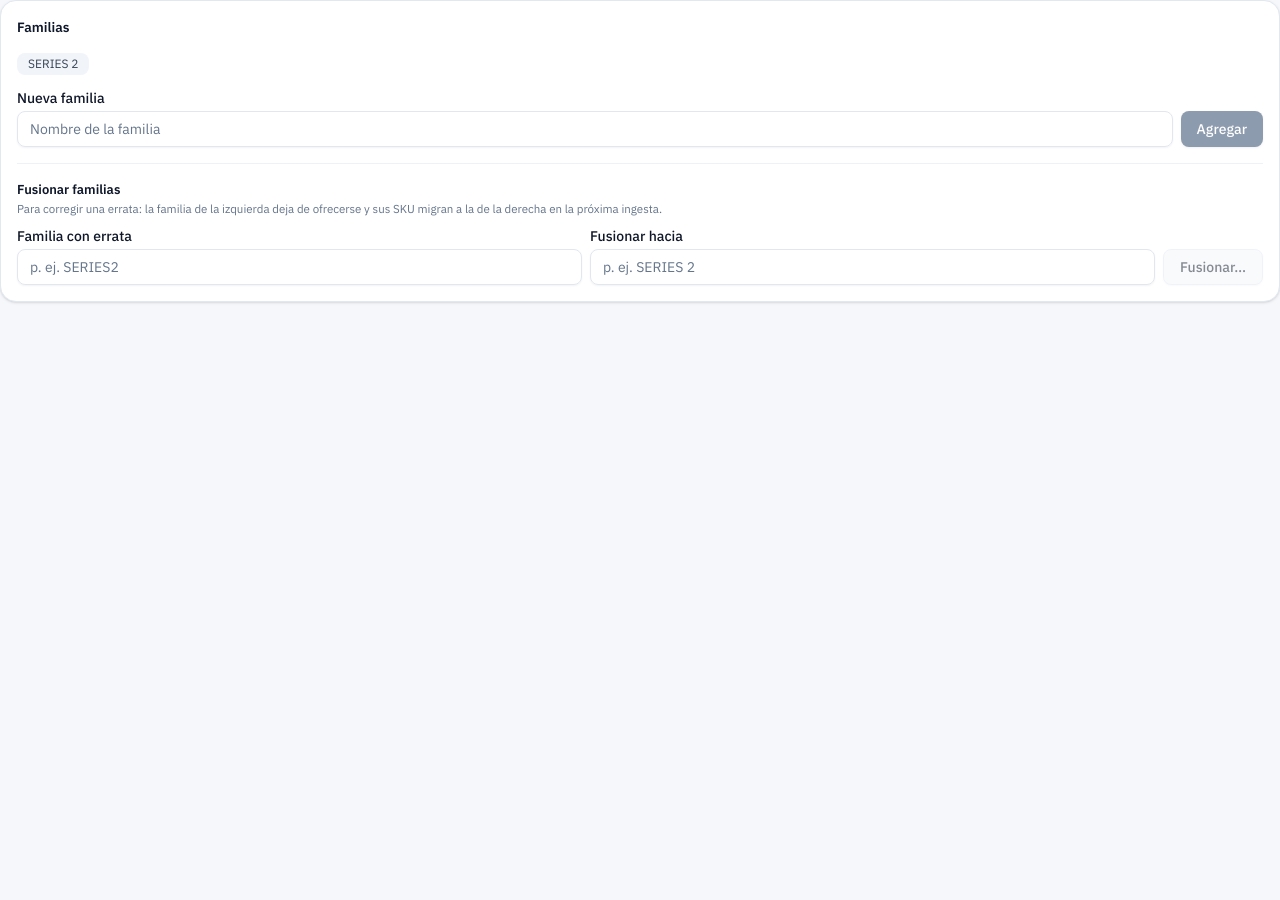
it: ConfigFamilias — Fusionar familias (C, [MVP-2]) › 2+ compuestos: pluraliza 'valores compuestos que contienen'
The image size is (1280, 900).
Expected: the text "SERIES 2" is shown, [17, 53, 90, 75]
Type "CLIP" into the field labelled "Familia con errata" at (300, 267), box [17, 249, 582, 285]
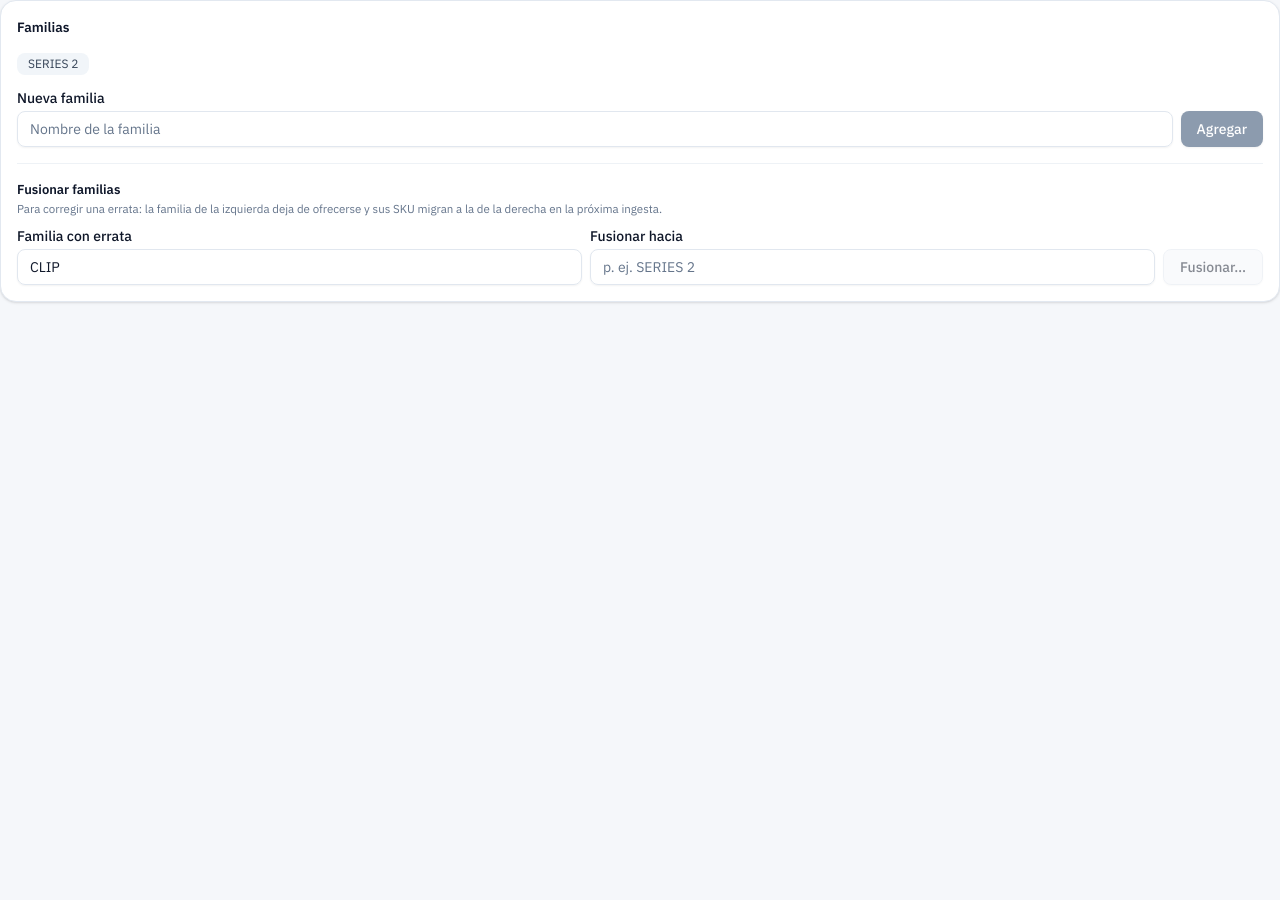
Type "CLIPS" into the field labelled "Fusionar hacia" at (872, 267), box [590, 249, 1155, 285]
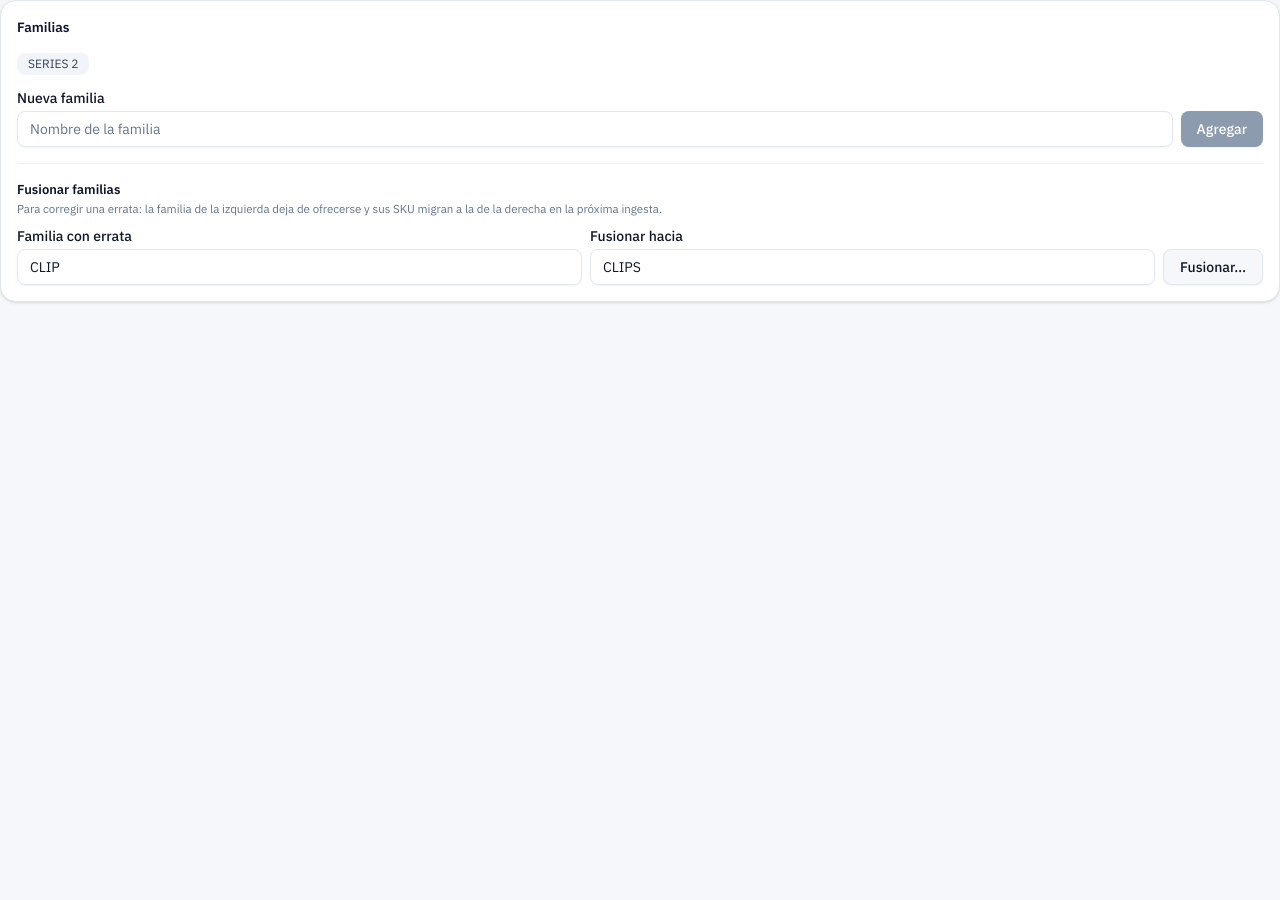
Click the button "Fusionar…" at (1213, 267), box [1163, 249, 1263, 285]
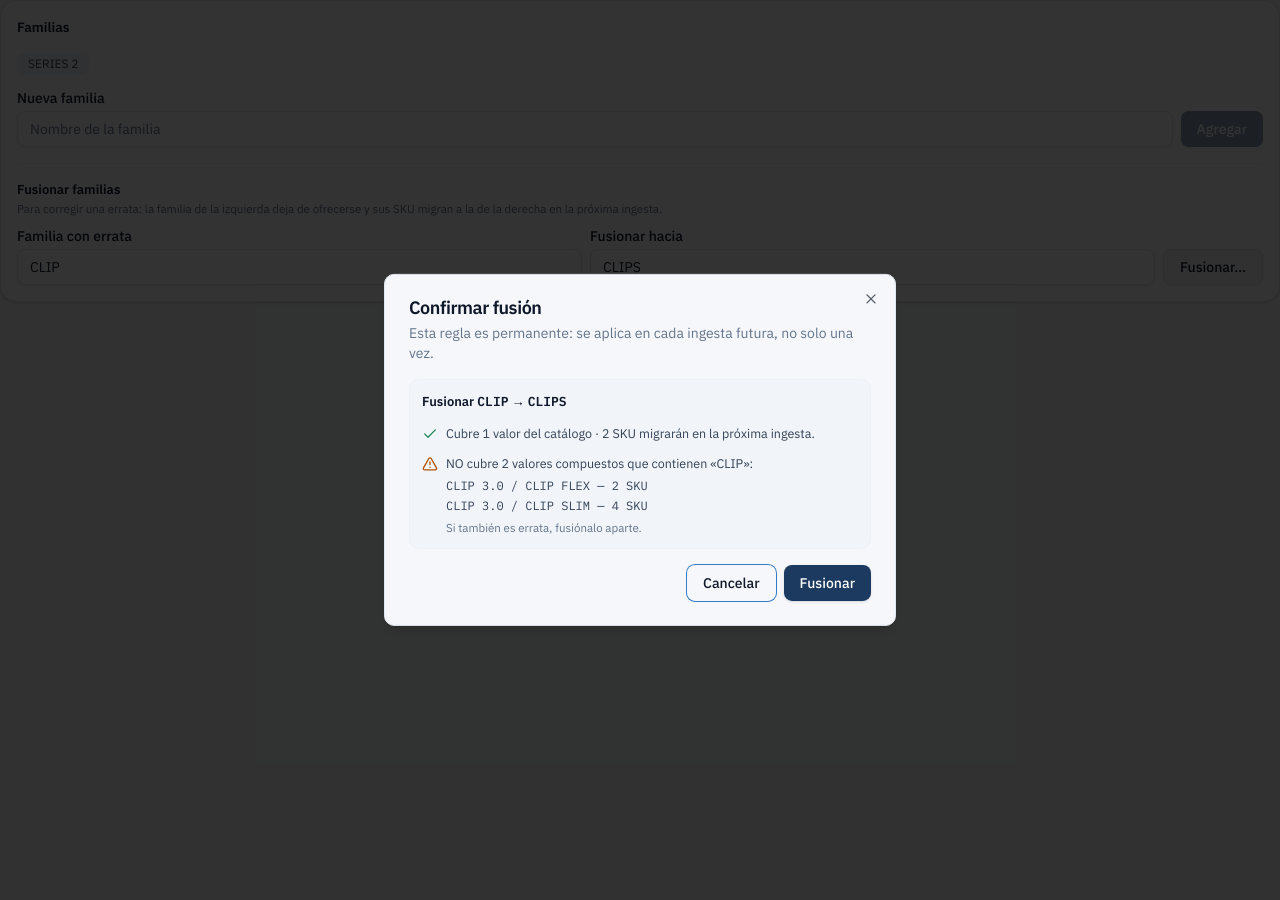
Result: the text "NO cubre 2 valores compuestos que contienen «CLIP»:" is shown at [446, 454, 753, 473]
